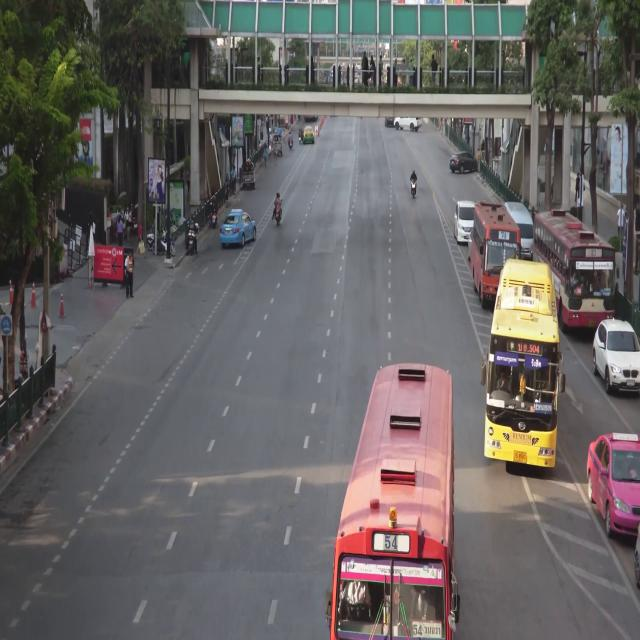bus: (334, 365, 450, 640), (486, 261, 557, 469), (534, 213, 616, 334), (472, 201, 518, 302)
car: (593, 320, 640, 394), (504, 201, 534, 258), (454, 200, 476, 243), (450, 151, 477, 173), (394, 117, 422, 132), (242, 164, 255, 190), (273, 136, 282, 156), (385, 117, 395, 128)
pedestrian: (125, 252, 134, 298), (116, 216, 123, 248), (617, 205, 624, 237), (574, 172, 580, 201), (126, 207, 131, 238), (225, 174, 229, 202), (231, 166, 235, 193), (269, 132, 273, 150), (264, 147, 267, 168), (261, 126, 264, 146), (274, 145, 277, 164), (299, 126, 302, 144), (271, 127, 274, 139)
taxi: (588, 433, 640, 535), (221, 210, 260, 247), (304, 127, 314, 145)
